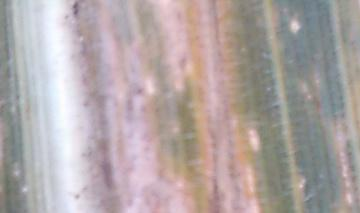tarspot: (72, 2, 79, 16)
